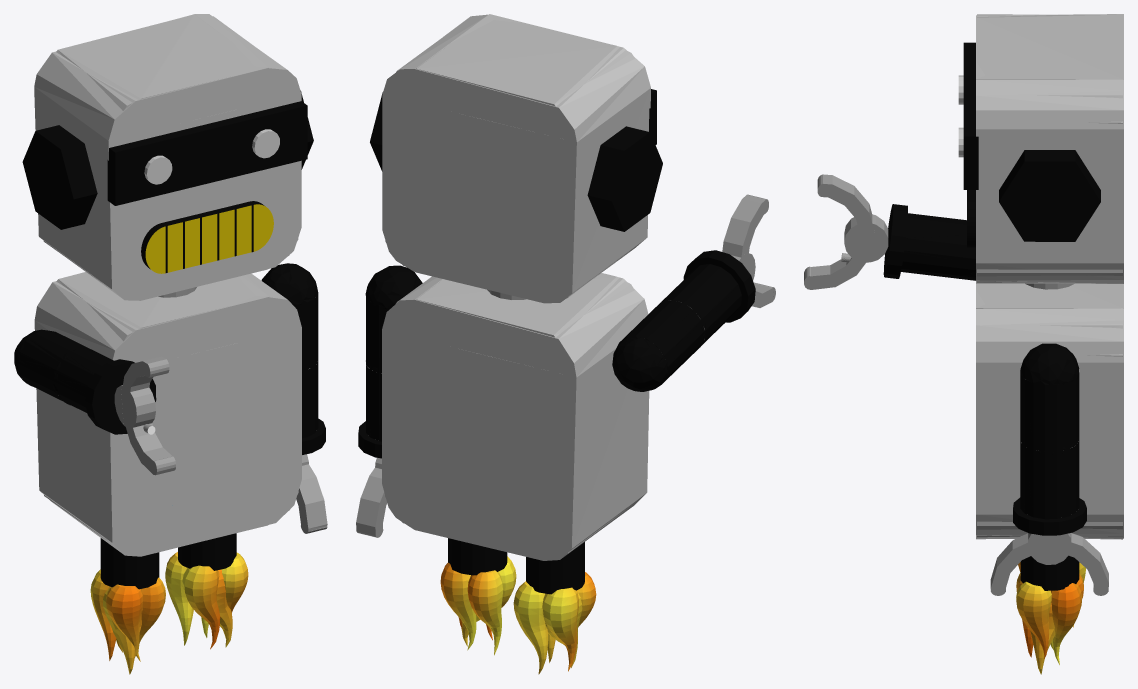
Rendered from Technobot_avecflame.gltf.
3 views of the same model, side by side, from view 1: azimuth 30°, elevation 25°; view 2: azimuth 150°, elevation 25°; view 3: azimuth 270°, elevation 25° (orthographic).
Bounding box in the file's own units: 0.1204 × 0.2241 × 0.1081.
4 materials, 1 textured.
